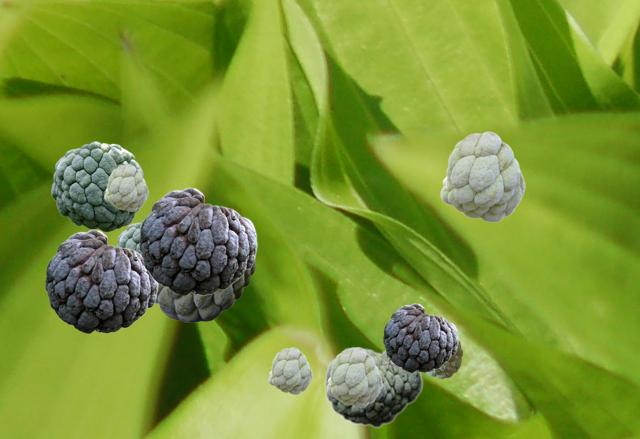atis: (139, 187, 256, 294), (45, 229, 157, 332), (51, 141, 144, 231), (324, 346, 422, 427), (440, 131, 524, 221), (156, 264, 254, 321), (383, 303, 457, 371), (326, 347, 381, 406), (268, 347, 311, 393), (104, 164, 147, 210), (423, 338, 461, 377), (116, 219, 143, 252)
